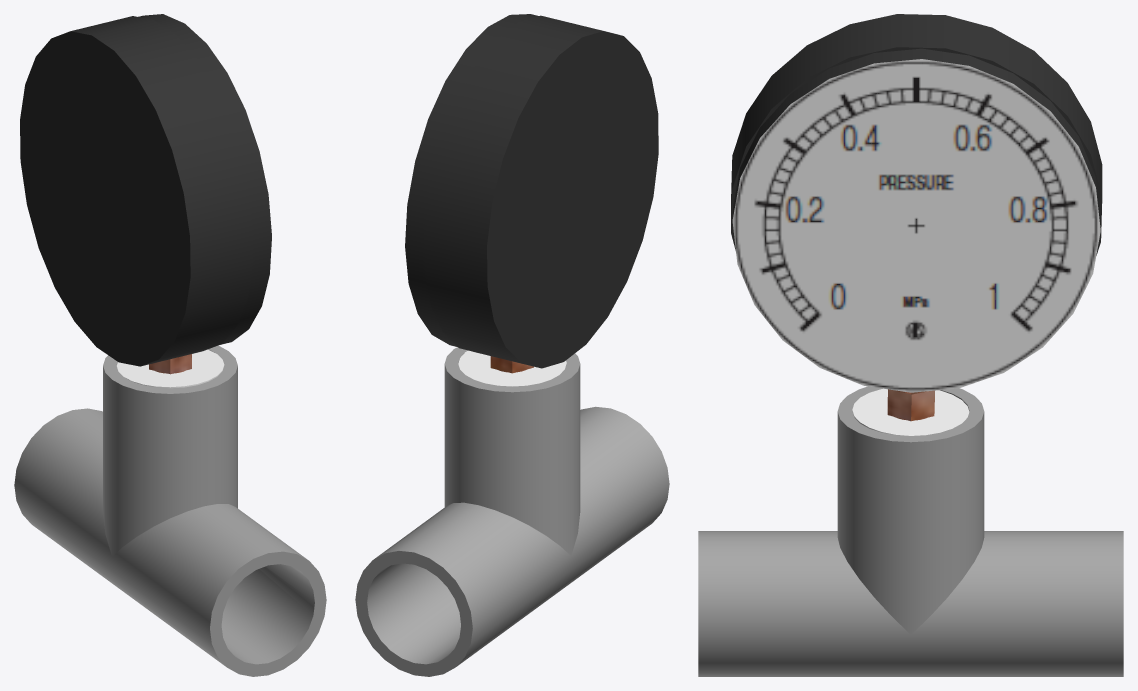
Rendered from Meter.dae.
The picture shows the model from 3 angles, left to right: view 1: azimuth 30°, elevation 25°; view 2: azimuth 150°, elevation 25°; view 3: azimuth 270°, elevation 25°; orthographic projection. The views are drawn at different scales.
Visible parts, largest first — view 1: pressure_gauges_1 (×2), group_1 (×2), meter_2; view 2: pressure_gauges_1, group_1 (×2), meter_2; view 3: pressure_gauges_1 (×3), group_1 (×2), meter_2.
Boxes of the visible parts, <box> form: pressure_gauges_1 (×2): <box>20,14,271,374</box>; group_1 (×2): <box>14,345,326,676</box>; meter_2: <box>116,349,224,388</box>; pressure_gauges_1: <box>405,14,658,368</box>; group_1 (×2): <box>355,347,669,676</box>; meter_2: <box>458,350,566,386</box>; pressure_gauges_1 (×3): <box>731,14,1102,421</box>; group_1 (×2): <box>698,386,1123,676</box>; meter_2: <box>852,388,969,435</box>.
Size of the model in its own units: 1.63 by 4.57 by 7.38.
Materials: 5 (2 with a texture image).
